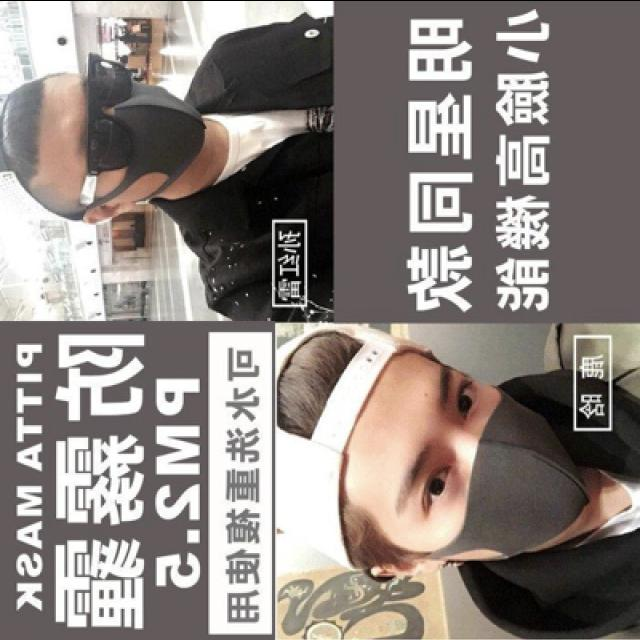with_mask: (394, 356, 594, 558), (74, 70, 206, 180)
